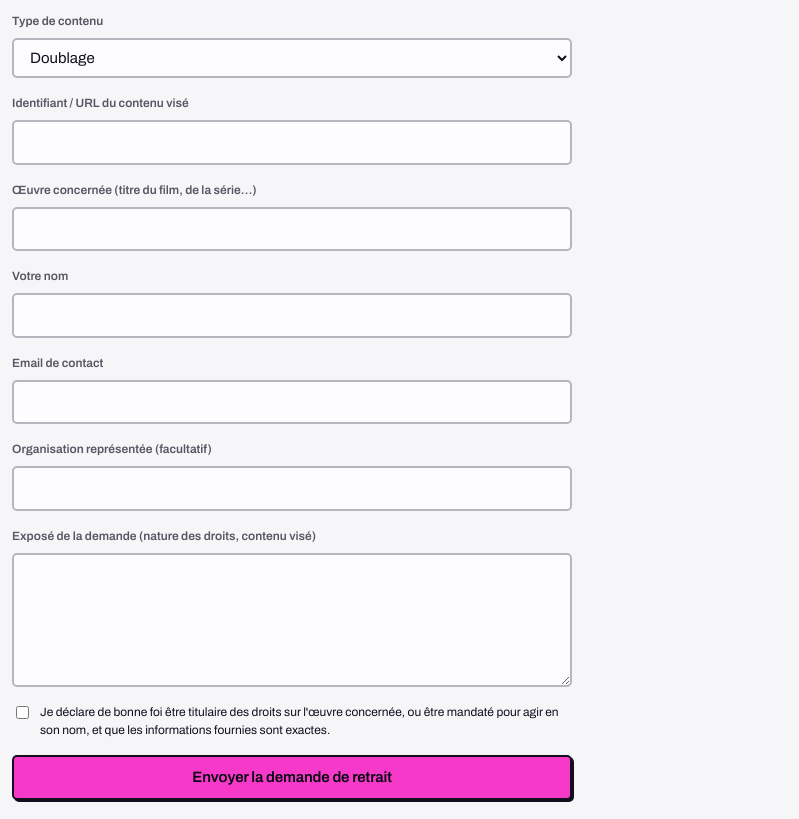
it: DemandeRetraitForm › envoie la demande puis affiche l'accusé de réception avec la référence
Type "extrait-42" into the field labelled "Identifiant / URL du contenu visé". click: (292, 142)
box: [12,120,572,164]
Type "Le Grand Bleu" into the field labelled "Œuvre concernée (titre du film, de la série…)". click: (292, 229)
box: [12,206,572,251]
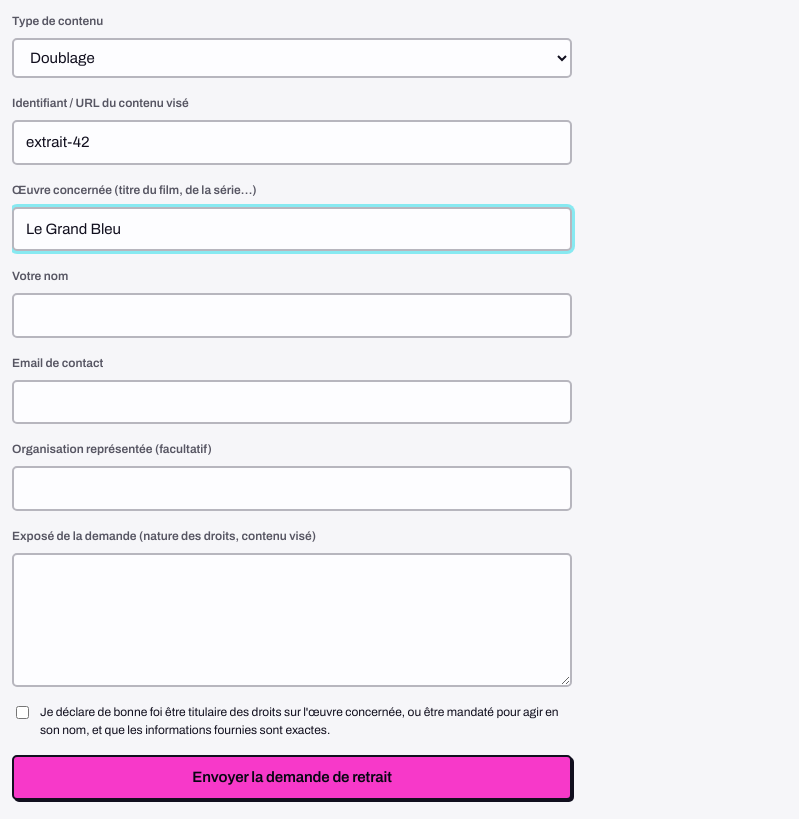
Type "Ada Lovelace" into the field labelled "Votre nom". click: (292, 315)
box: [12,293,572,338]
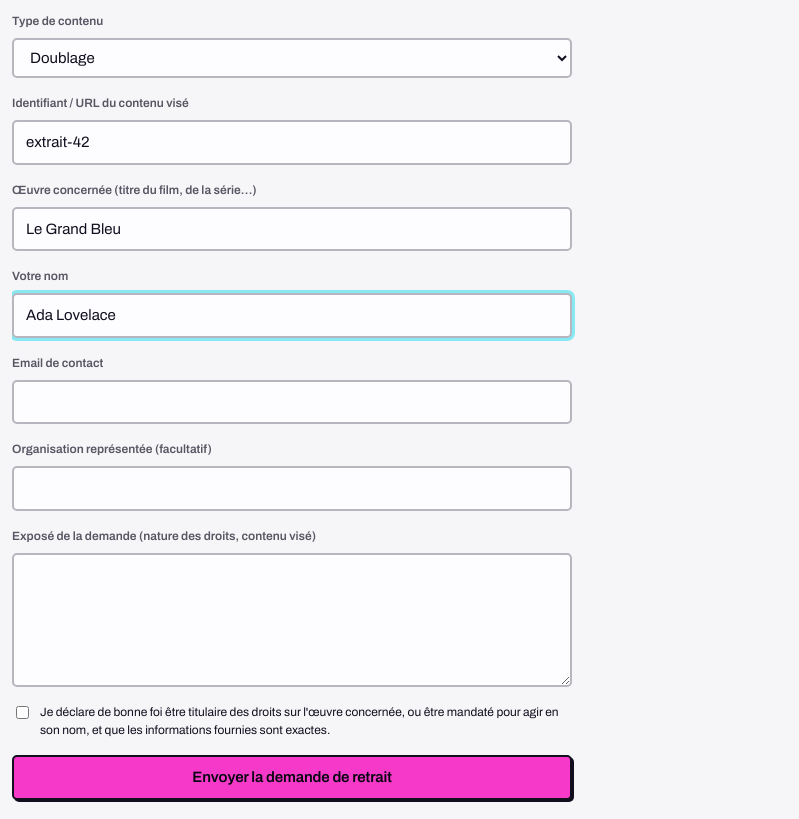
Type "ada@example.com" into the field labelled "Email de contact". click: (292, 402)
box: [12,380,572,424]
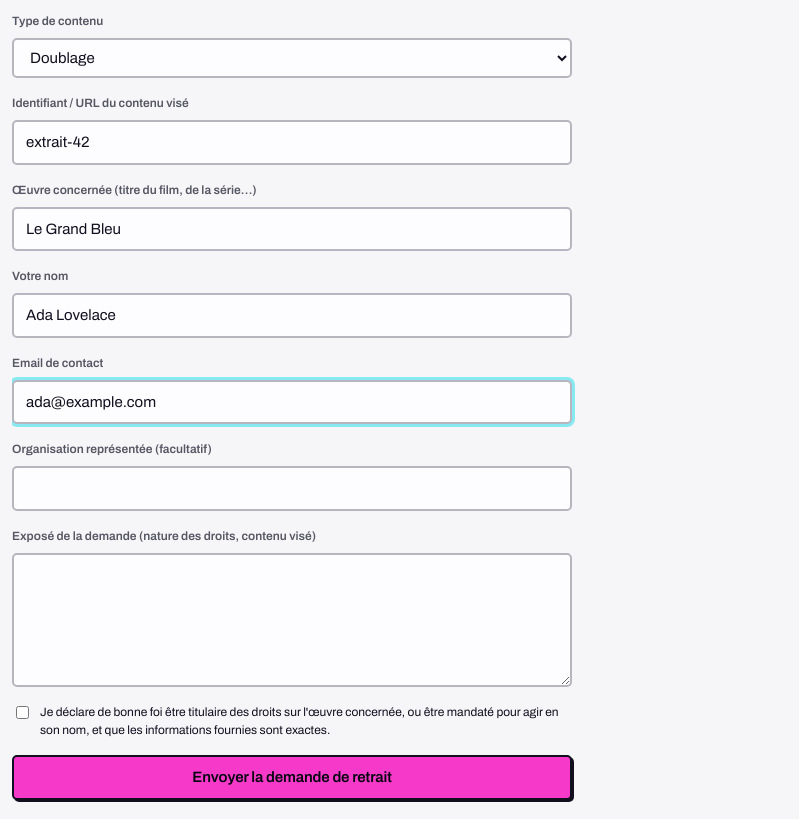
Type "Je détiens les droits." into the text box labelled "Exposé de la demande (nature des droits, contenu visé)". click: (292, 620)
box: [12,552,572,687]
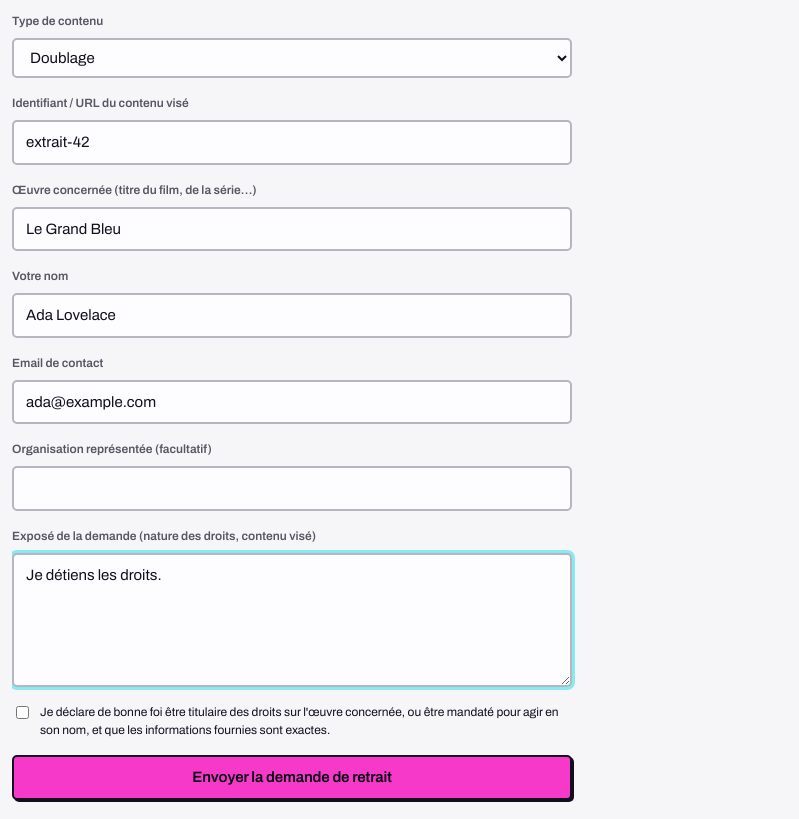
Click the checkbox. click: (22, 712)
box: [16,706,29,719]
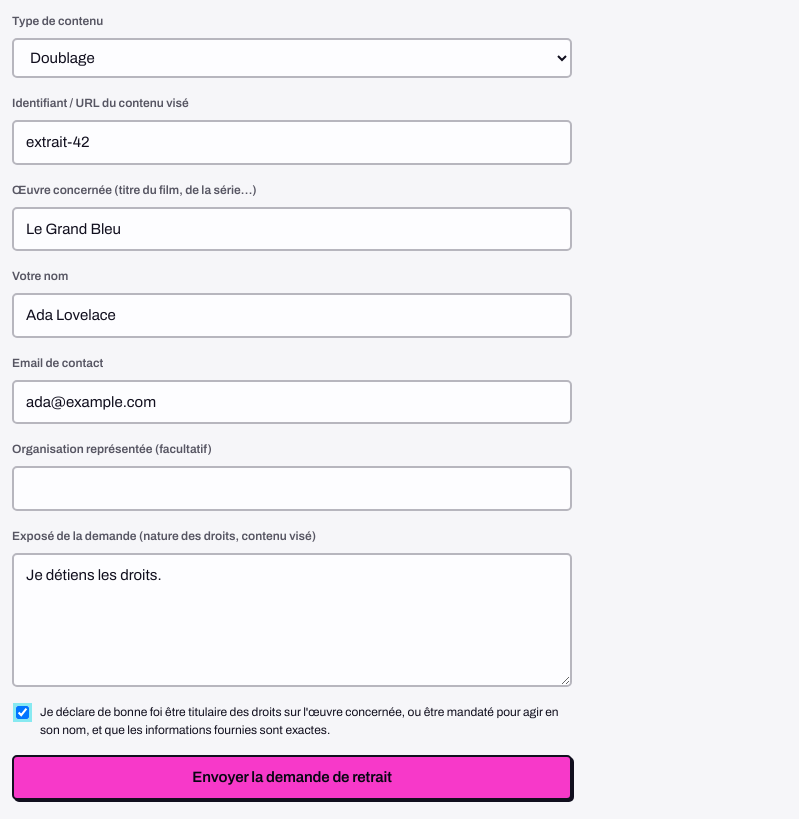
Click the button "Envoyer la demande de retrait". click: (292, 777)
box: [12,755,572,800]
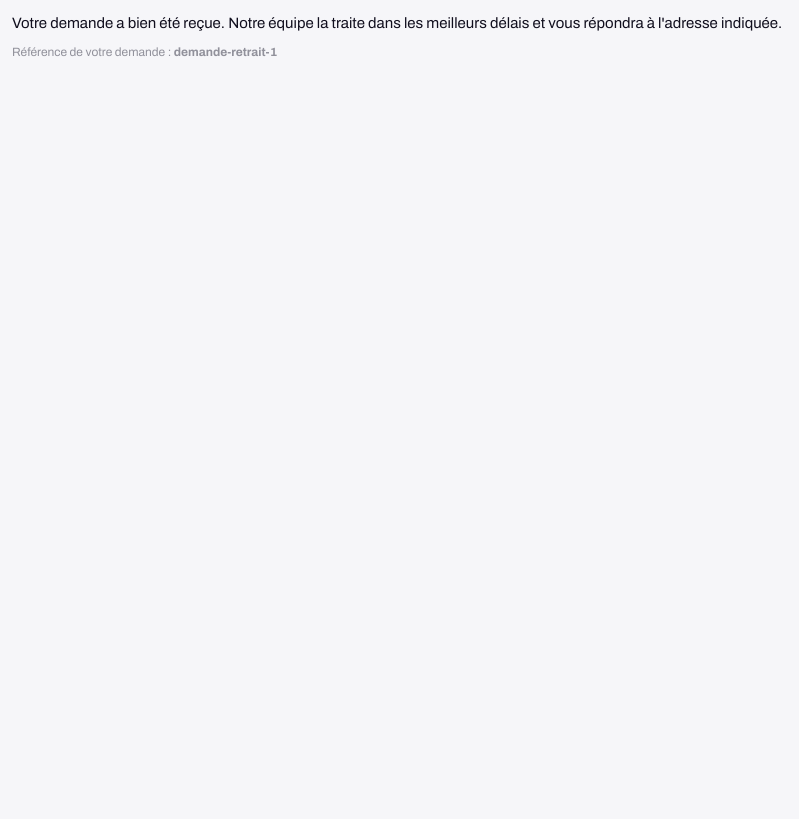
Expected: the message shows "reçue", [12,15,782,31]
Expected: the text "demande-retrait-1" is shown, [174,44,277,58]
